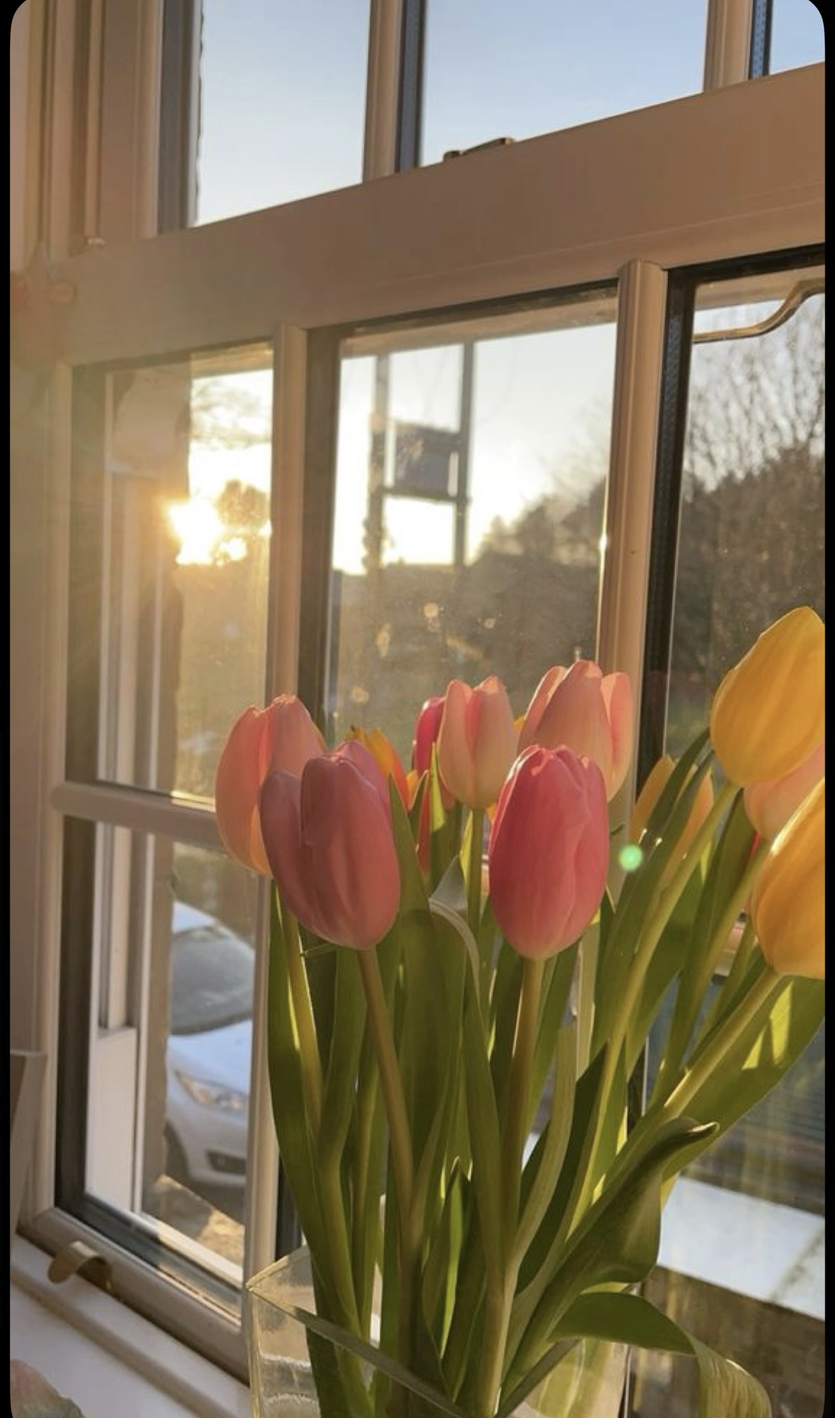tulip: (481, 738, 616, 974), (259, 748, 406, 956), (209, 690, 344, 882), (705, 598, 825, 787), (508, 655, 644, 815), (741, 777, 827, 985), (625, 739, 719, 895), (434, 665, 521, 814), (736, 721, 827, 851)
